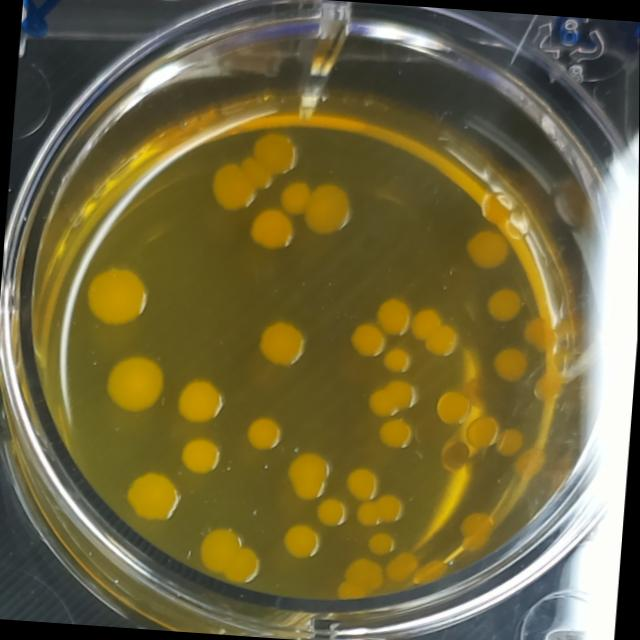vibrio: (79, 261, 153, 330), (191, 526, 271, 588), (101, 350, 168, 418), (121, 469, 188, 525), (298, 180, 354, 238), (408, 304, 465, 360), (252, 318, 309, 372), (172, 374, 229, 428), (284, 448, 334, 506), (246, 126, 304, 176), (207, 162, 259, 214), (244, 206, 298, 254), (364, 376, 421, 420), (352, 491, 410, 531), (460, 227, 511, 272), (345, 316, 393, 362), (176, 433, 225, 478), (453, 508, 496, 556), (241, 412, 287, 455), (373, 294, 416, 339), (480, 283, 525, 326), (458, 412, 503, 453), (489, 342, 532, 384), (280, 523, 324, 562), (432, 388, 473, 428), (341, 465, 382, 505), (341, 555, 384, 592), (381, 548, 420, 588), (520, 315, 559, 354), (375, 414, 415, 452), (491, 426, 526, 460), (314, 496, 351, 528), (278, 179, 310, 215), (380, 344, 413, 376), (365, 530, 398, 558)
